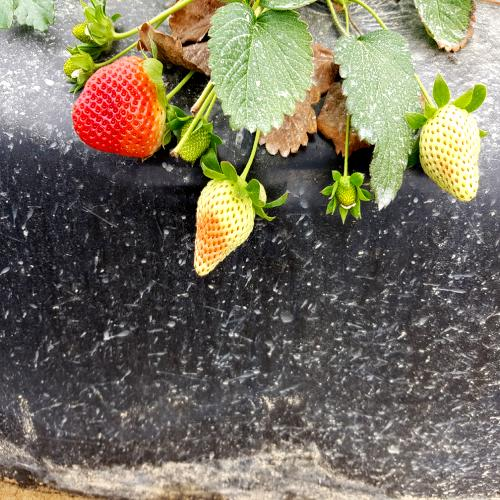partially-ripe: (191, 170, 259, 281)
ripe: (68, 48, 170, 164)
unripe: (413, 100, 485, 210)
